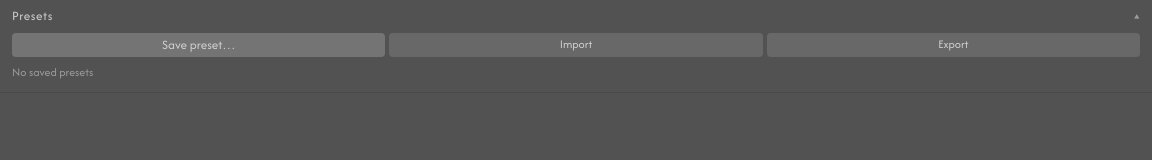
Scenario: PresetsPanel import feedback › says so when the importer finds no develop settings, saving nothing
Click the button "Import" at (576, 45), box [389,32,763,57]
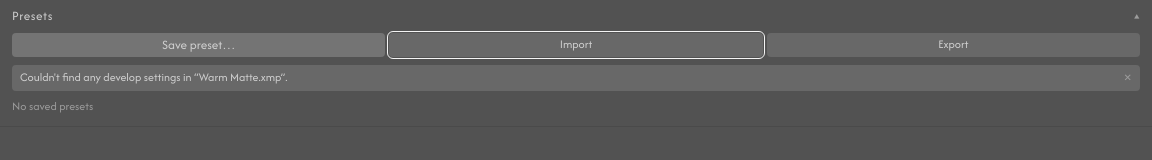
Result: the text "Couldn't find any develop settings in “Warm Matte.xmp”." is shown at [20,69,287,85]
